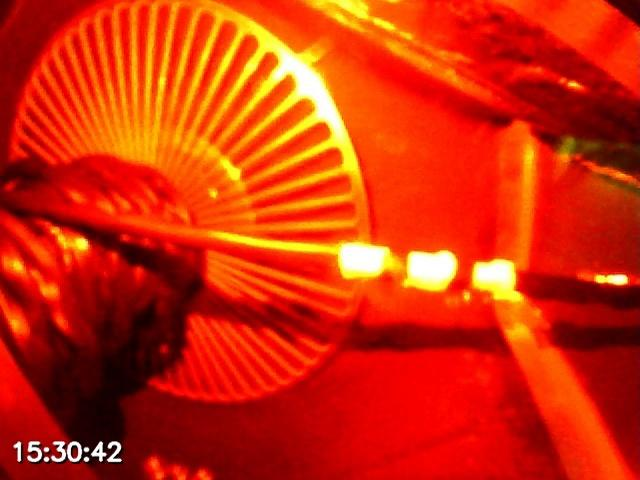white-dots: (335, 241, 518, 296)
